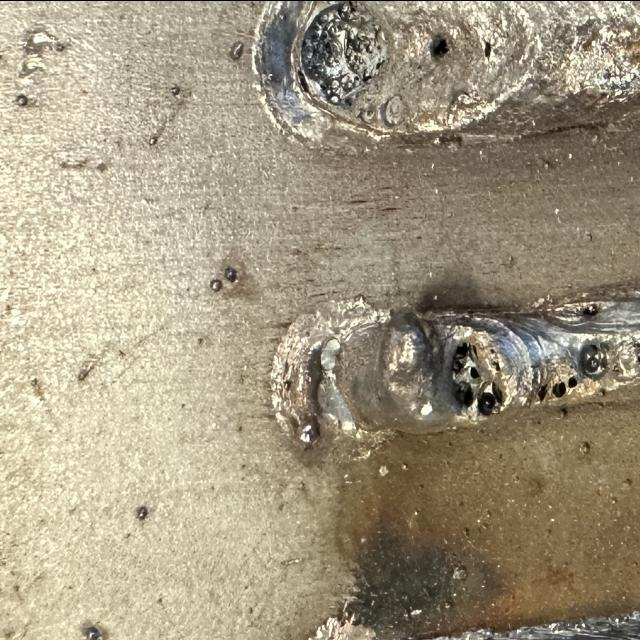Spatters: (530, 118, 538, 124), (567, 151, 573, 158)
